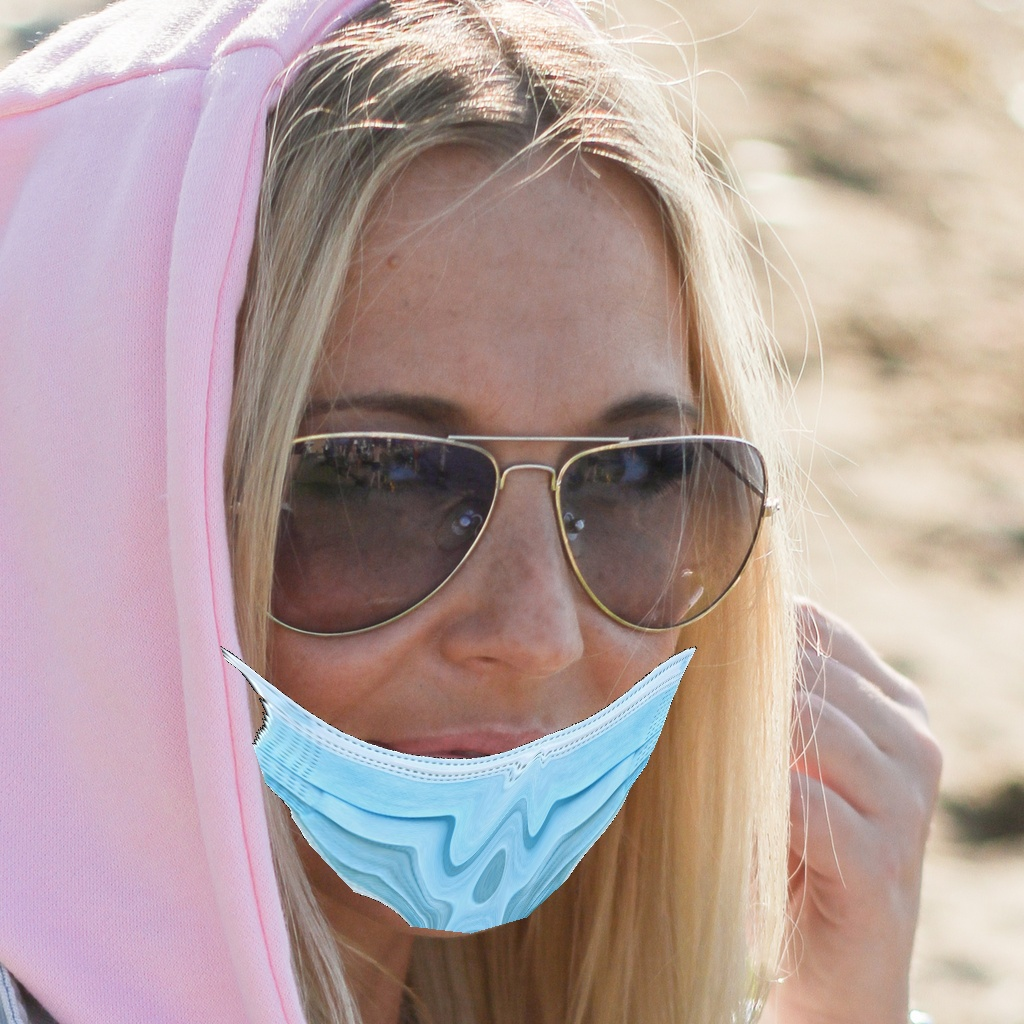mascarilla_mal_puesta: (187, 370, 789, 953)
